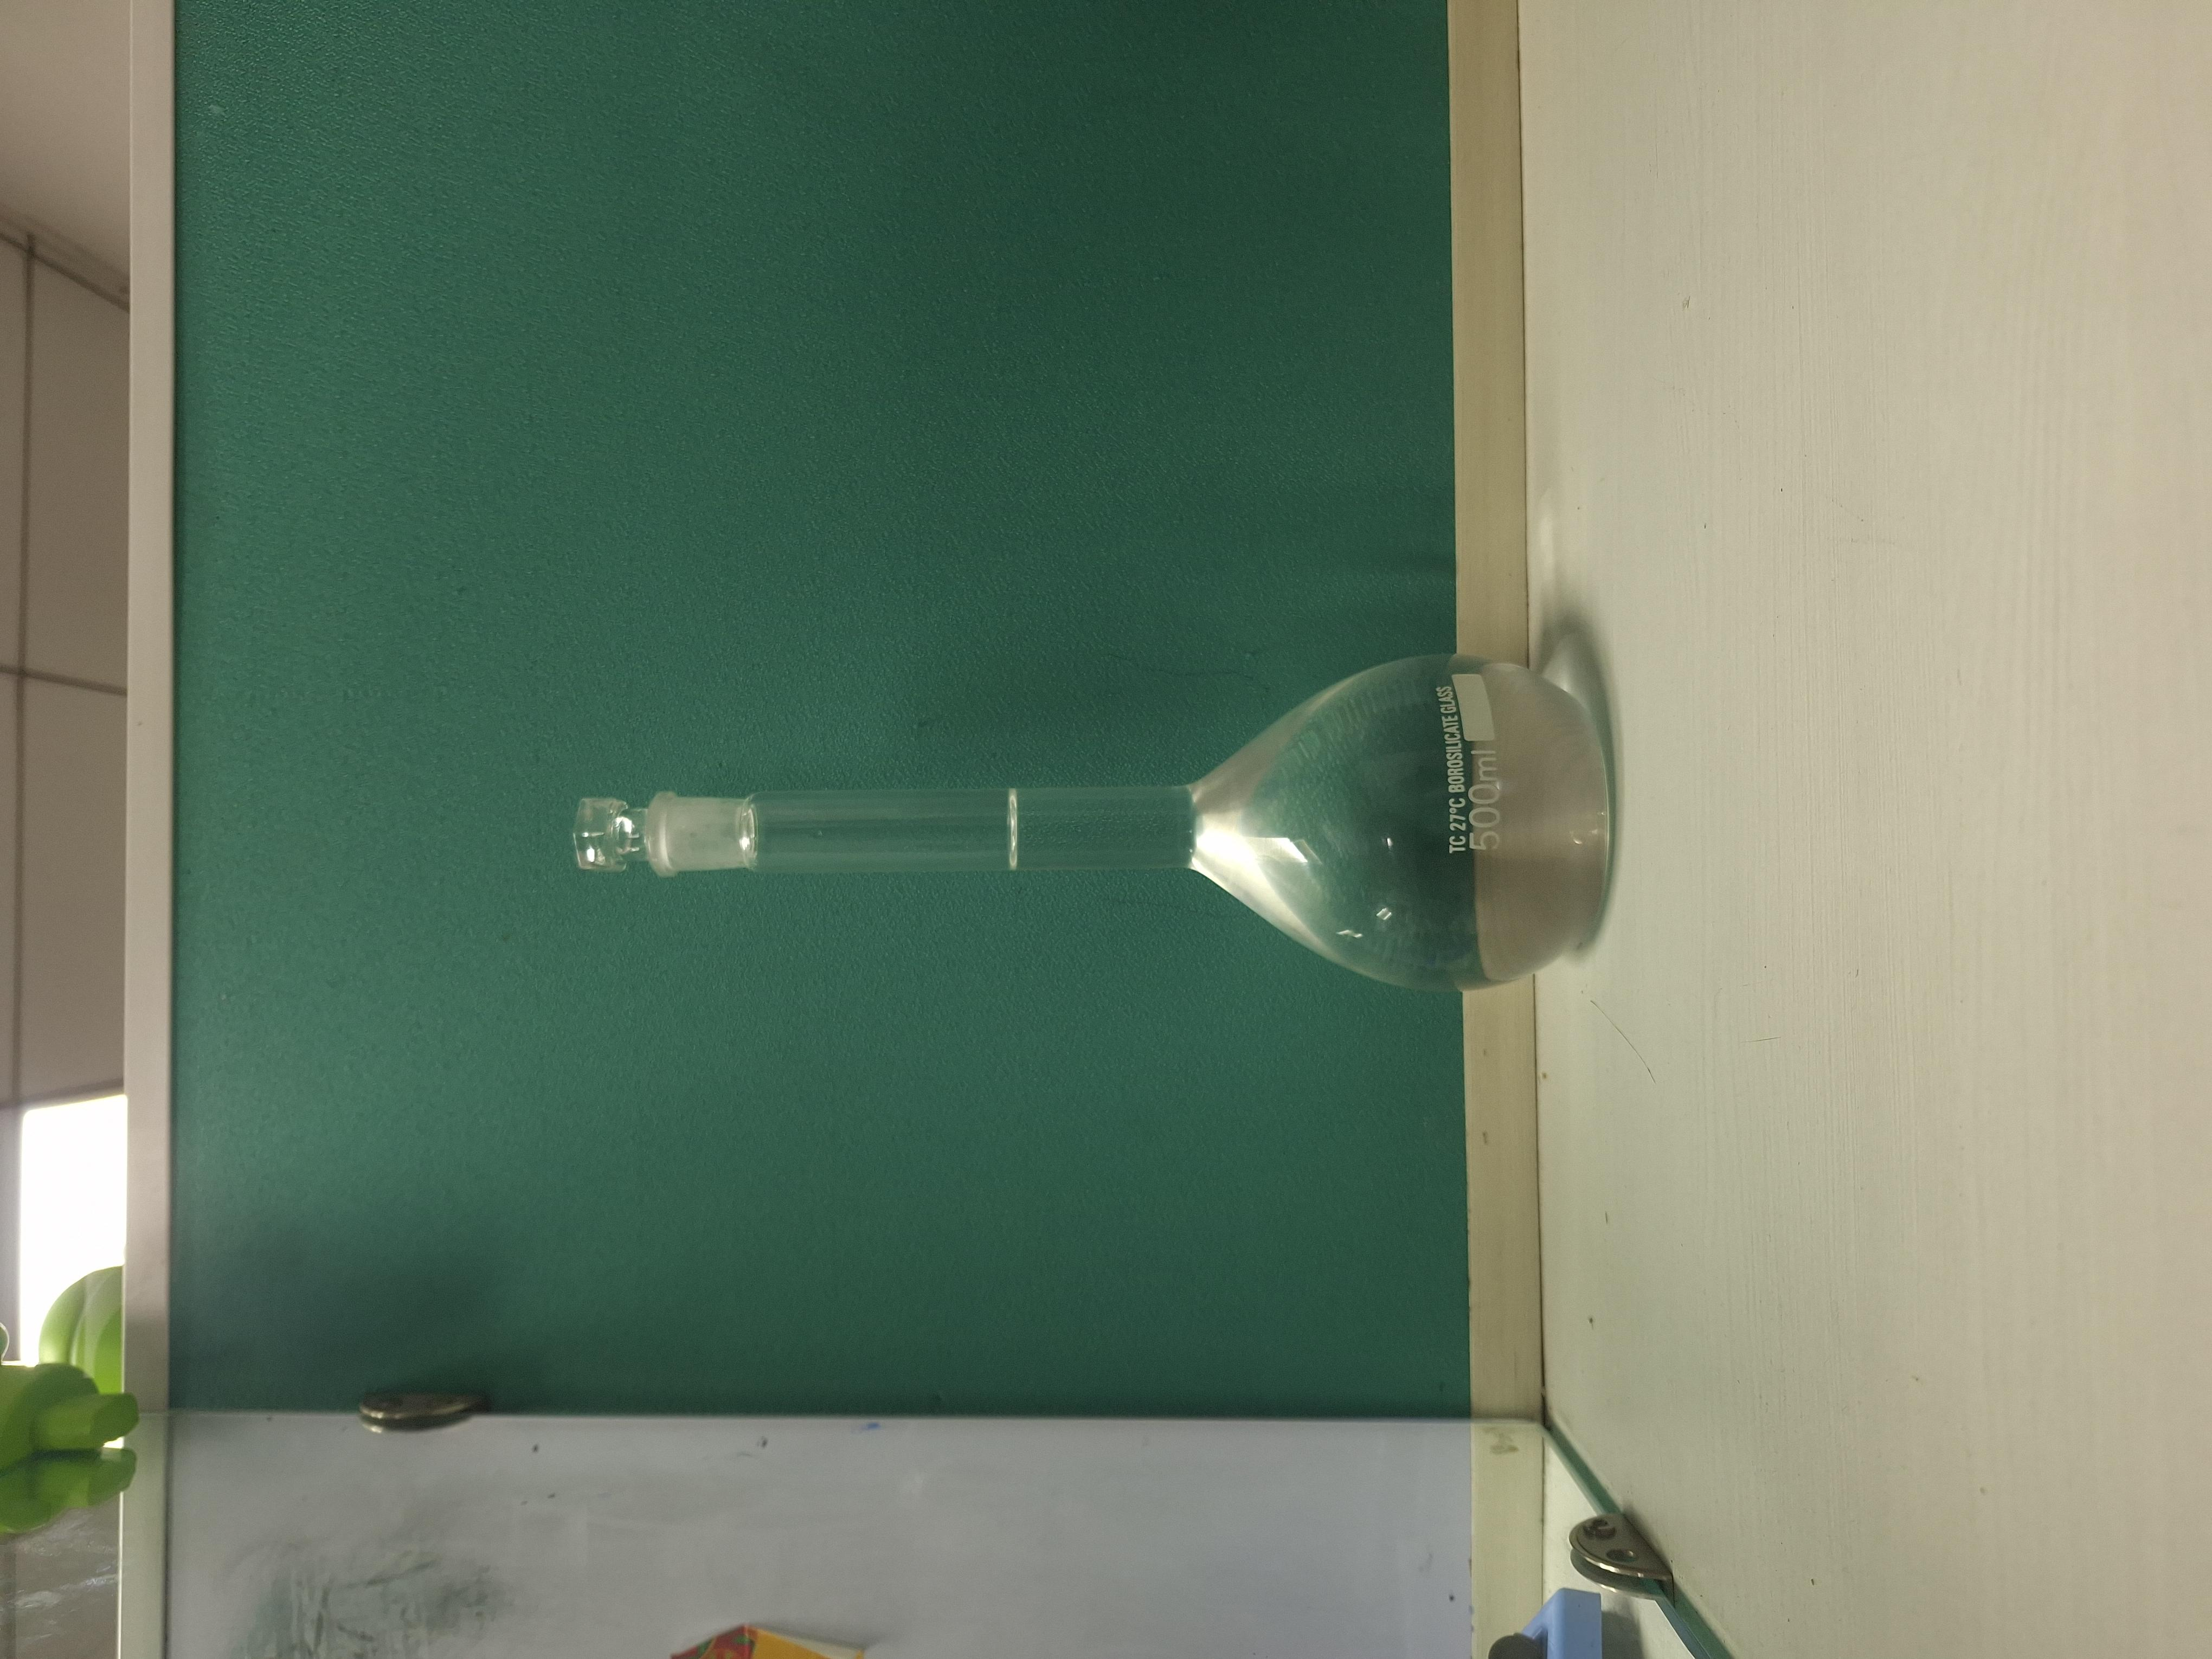Volumetric flask: (820, 396, 1379, 1216)
